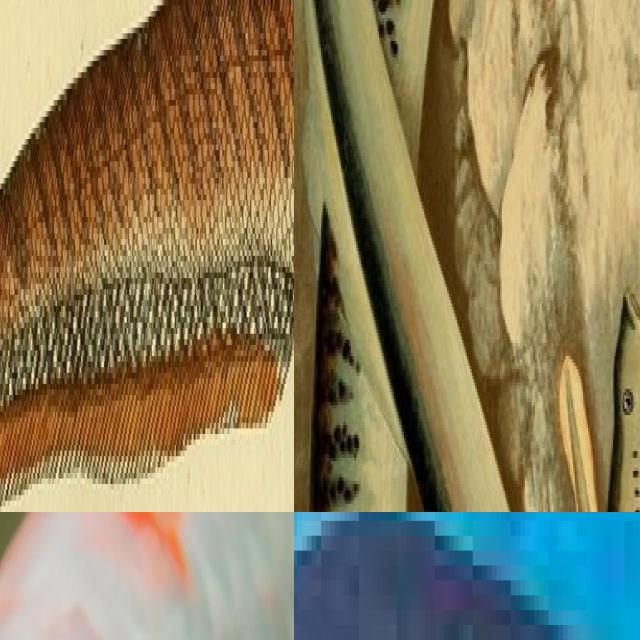fish: (0, 0, 294, 512), (294, 512, 640, 640), (0, 512, 294, 640)
